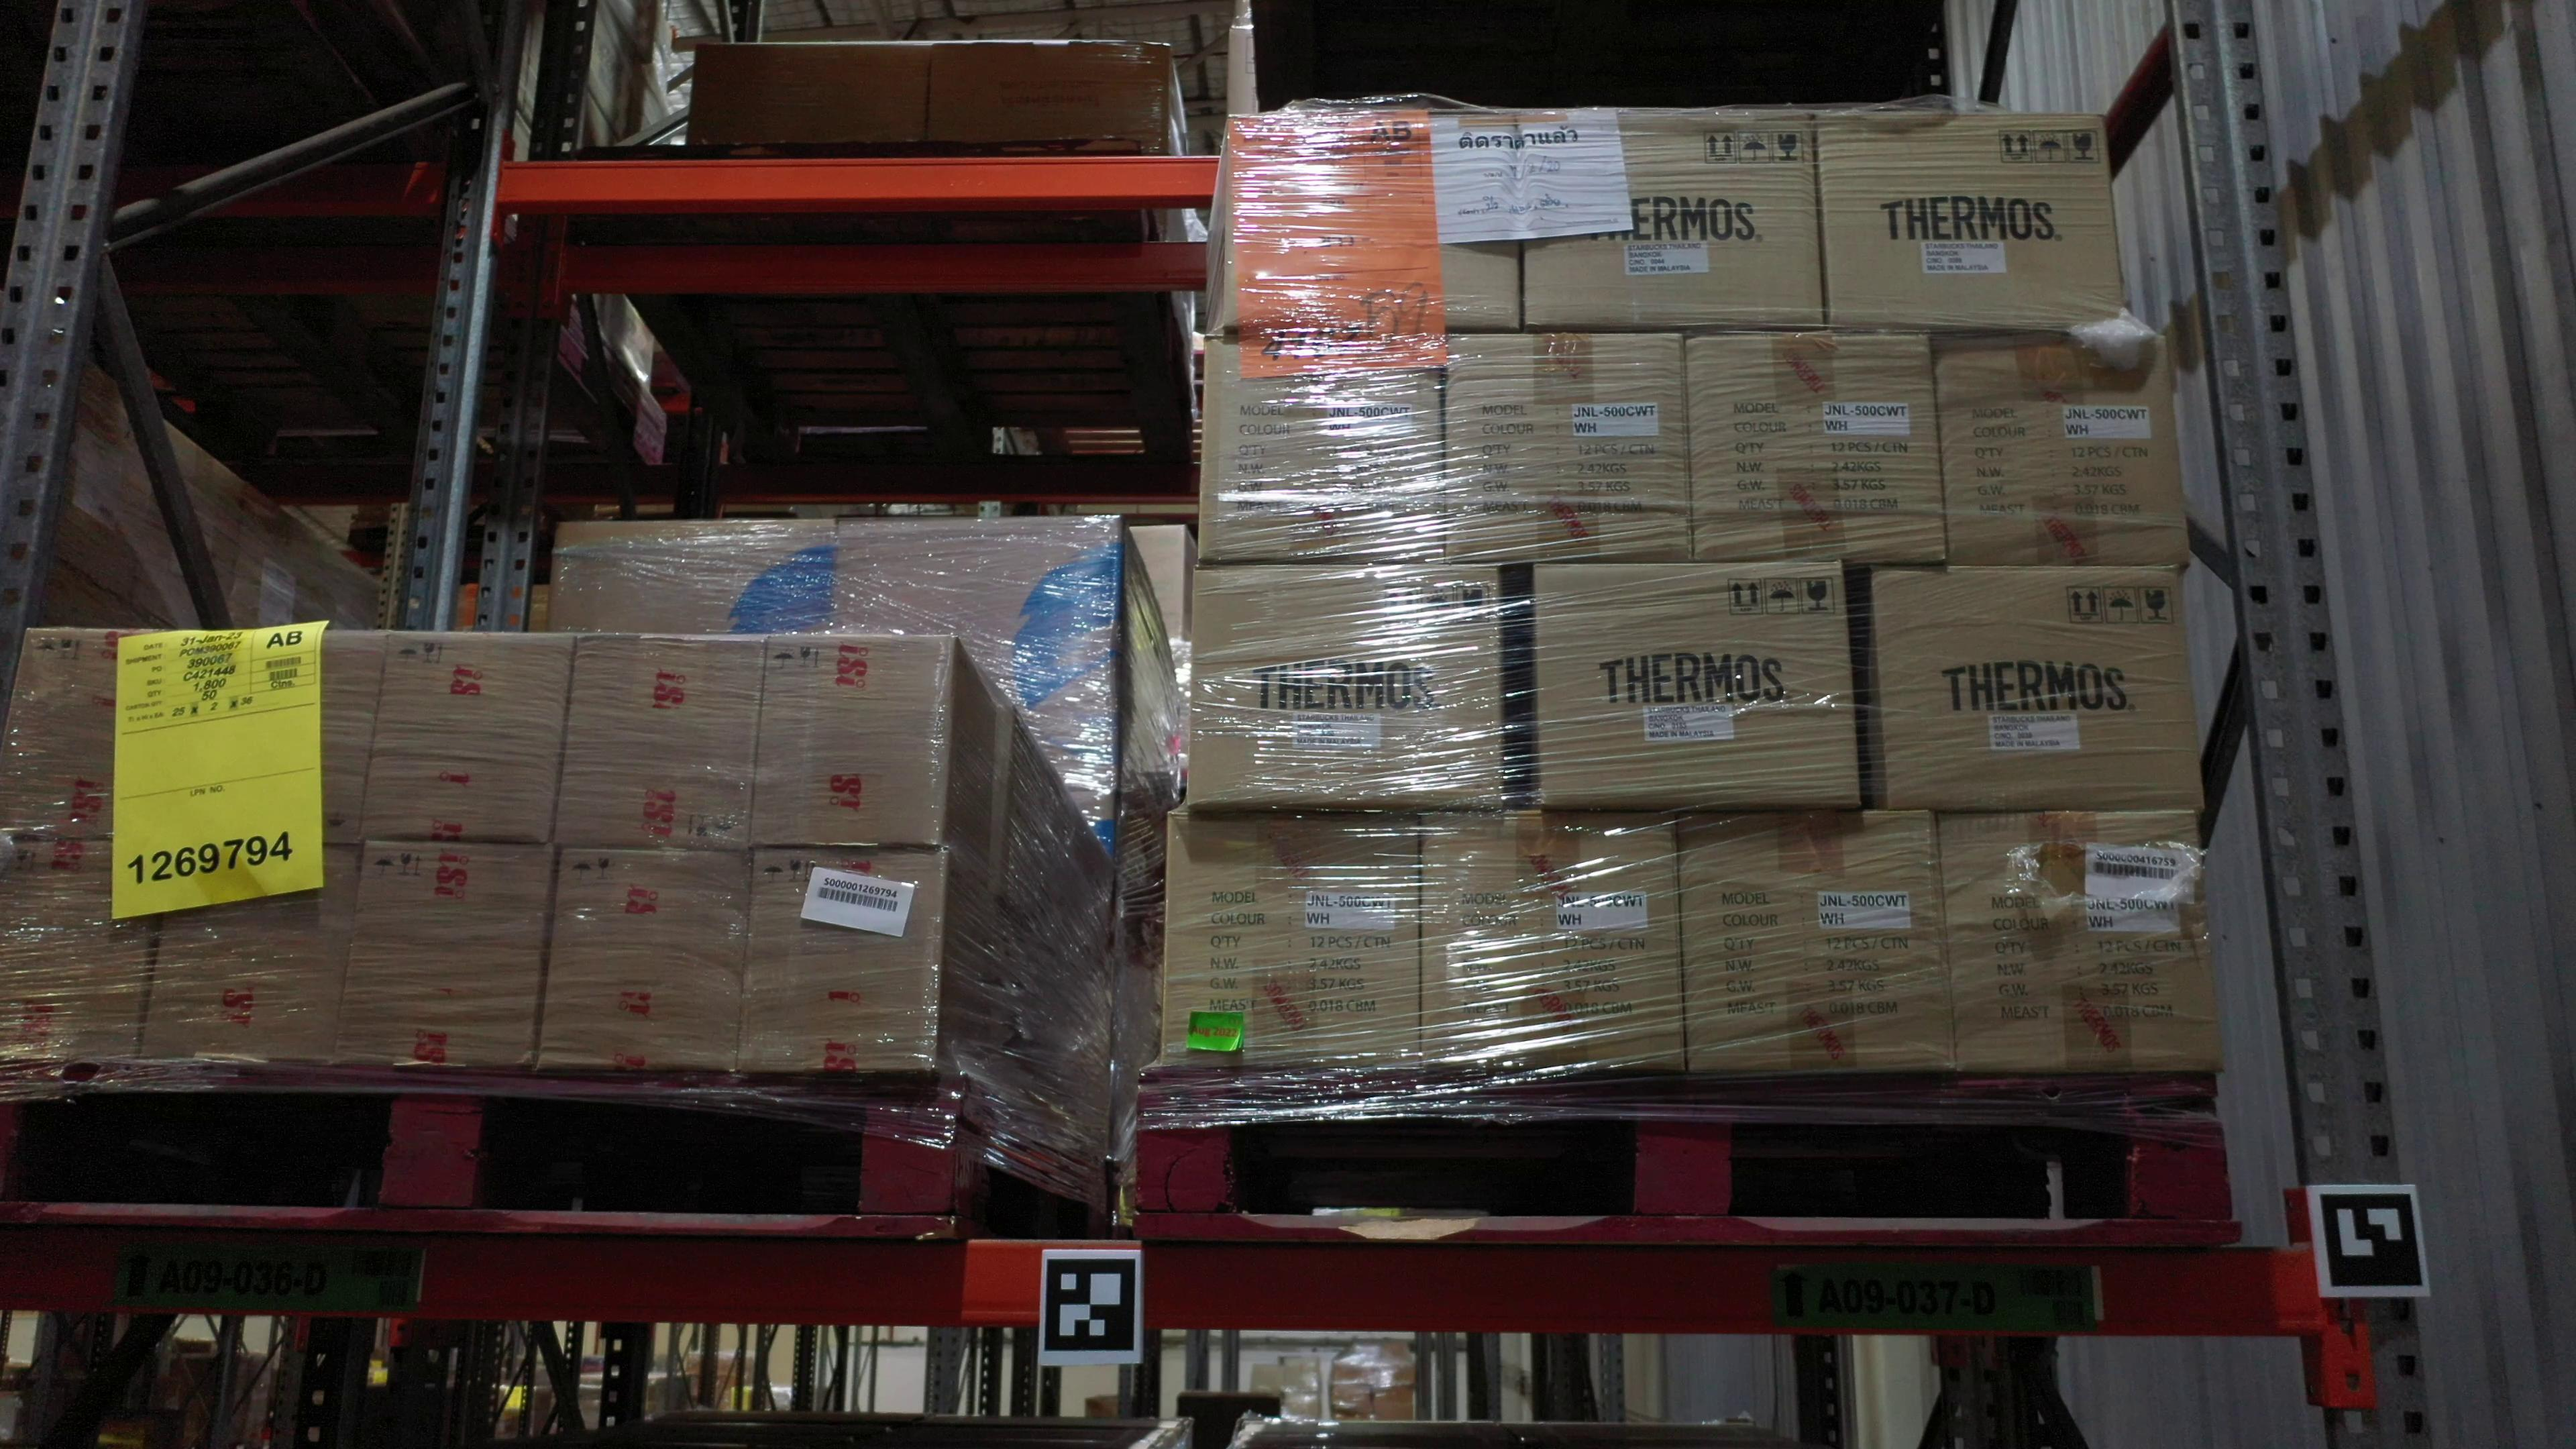-: (1867, 566, 2206, 814), (1536, 559, 1861, 814), (1934, 805, 2226, 1076), (1185, 563, 1502, 812), (1677, 810, 1959, 1074), (1813, 110, 2128, 338), (1516, 110, 1829, 336), (1421, 807, 1686, 1074), (1161, 807, 1422, 1069), (1221, 117, 1523, 338), (1932, 331, 2192, 570), (1684, 331, 1948, 566), (1440, 331, 1697, 566), (1196, 331, 1444, 570), (338, 839, 559, 1070), (142, 840, 363, 1069), (533, 846, 752, 1074), (738, 842, 947, 1074), (552, 633, 770, 855), (0, 626, 214, 846), (175, 628, 389, 847), (364, 630, 577, 847), (752, 630, 959, 853), (0, 840, 175, 1069)
box: (832, 511, 1122, 791), (545, 518, 839, 637)
